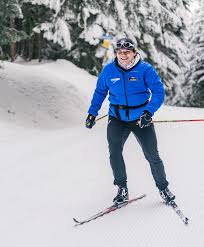skis: (71, 190, 190, 228)
